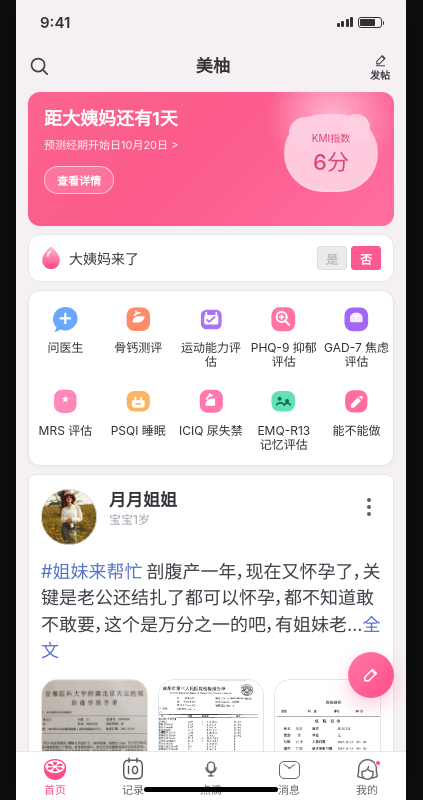
scene1 ui › renames the homepage food tool to bone assessment and navigates to the questionnaire
Click the button "骨钙测评". click: (138, 333)
box: [102,297,175,369]
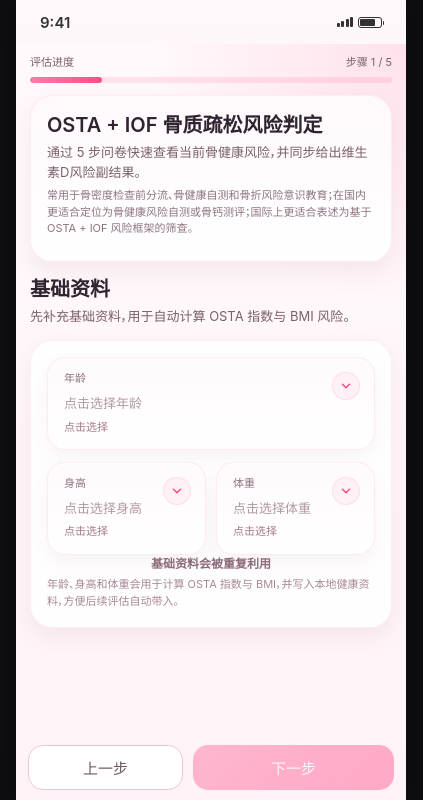
expect the element with test id "scene1-bone-assessment-route-shell" is shown: met
